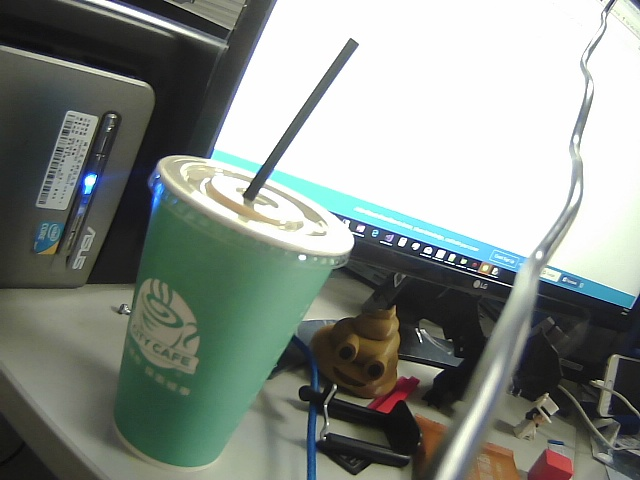beverage: (113, 36, 363, 480)
